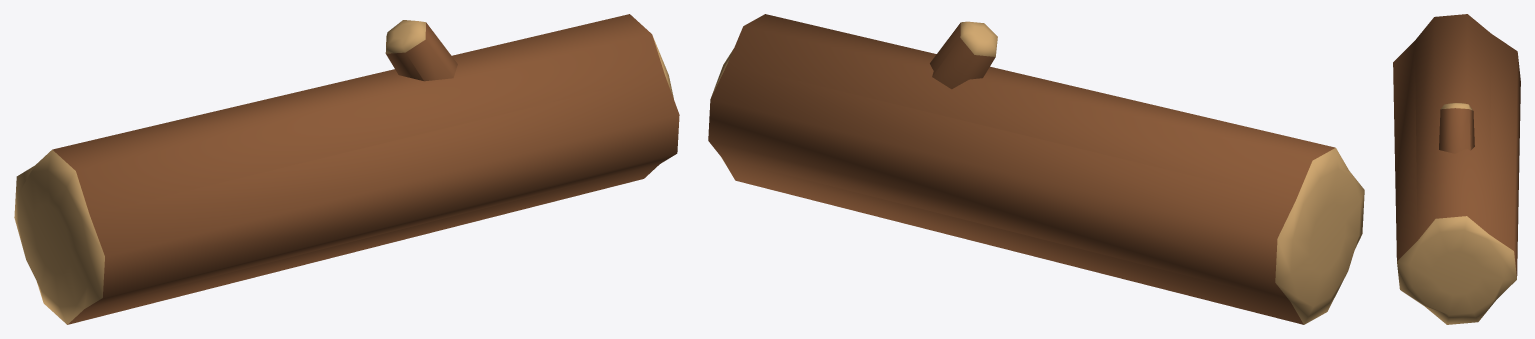
File: log_2.glb
3 views of the same model, side by side, from view 1: azimuth 30°, elevation 25°; view 2: azimuth 150°, elevation 25°; view 3: azimuth 270°, elevation 25° (orthographic). The views are drawn at different scales.
Visible parts, largest first — view 1: Prop; view 2: Prop; view 3: Prop.
Boxes of the visible parts, box(x1,y1,x2,y2) form: Prop: box(14, 14, 679, 324); Prop: box(708, 14, 1364, 324); Prop: box(1393, 14, 1520, 324).
Size of the model in its own units: 1.49 by 0.5083 by 0.3946.
